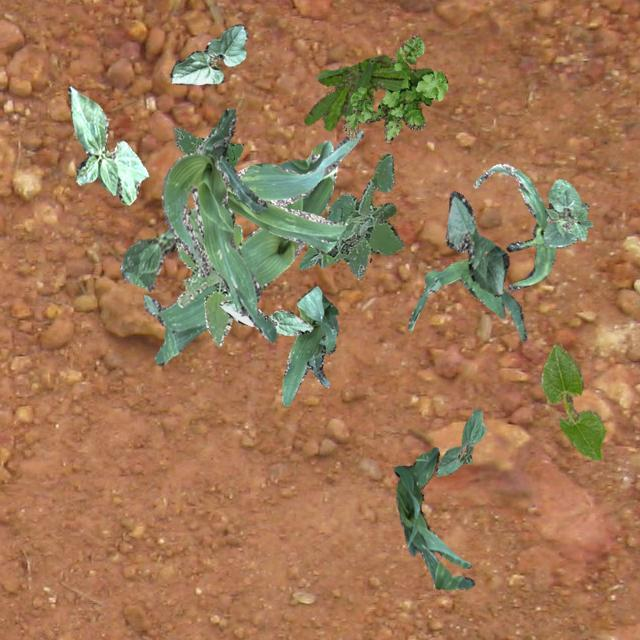crop: (144, 140, 336, 364), (160, 108, 276, 342), (225, 128, 362, 252), (392, 446, 473, 588), (472, 162, 554, 290), (408, 258, 526, 342), (66, 84, 148, 204), (540, 342, 604, 460), (280, 284, 338, 406), (446, 190, 508, 296), (170, 22, 247, 84), (118, 228, 176, 290), (434, 408, 486, 476), (542, 178, 592, 246), (218, 300, 312, 334)
weed: (298, 152, 402, 278), (342, 35, 448, 142), (303, 54, 429, 130), (175, 208, 241, 344), (172, 126, 242, 210)
